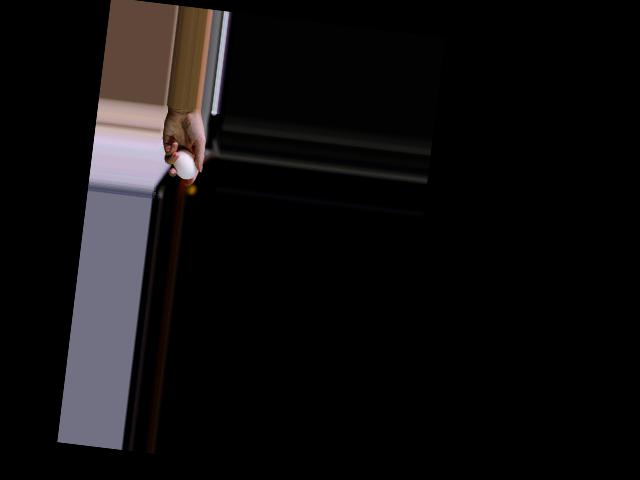egg: (171, 149, 199, 181)
